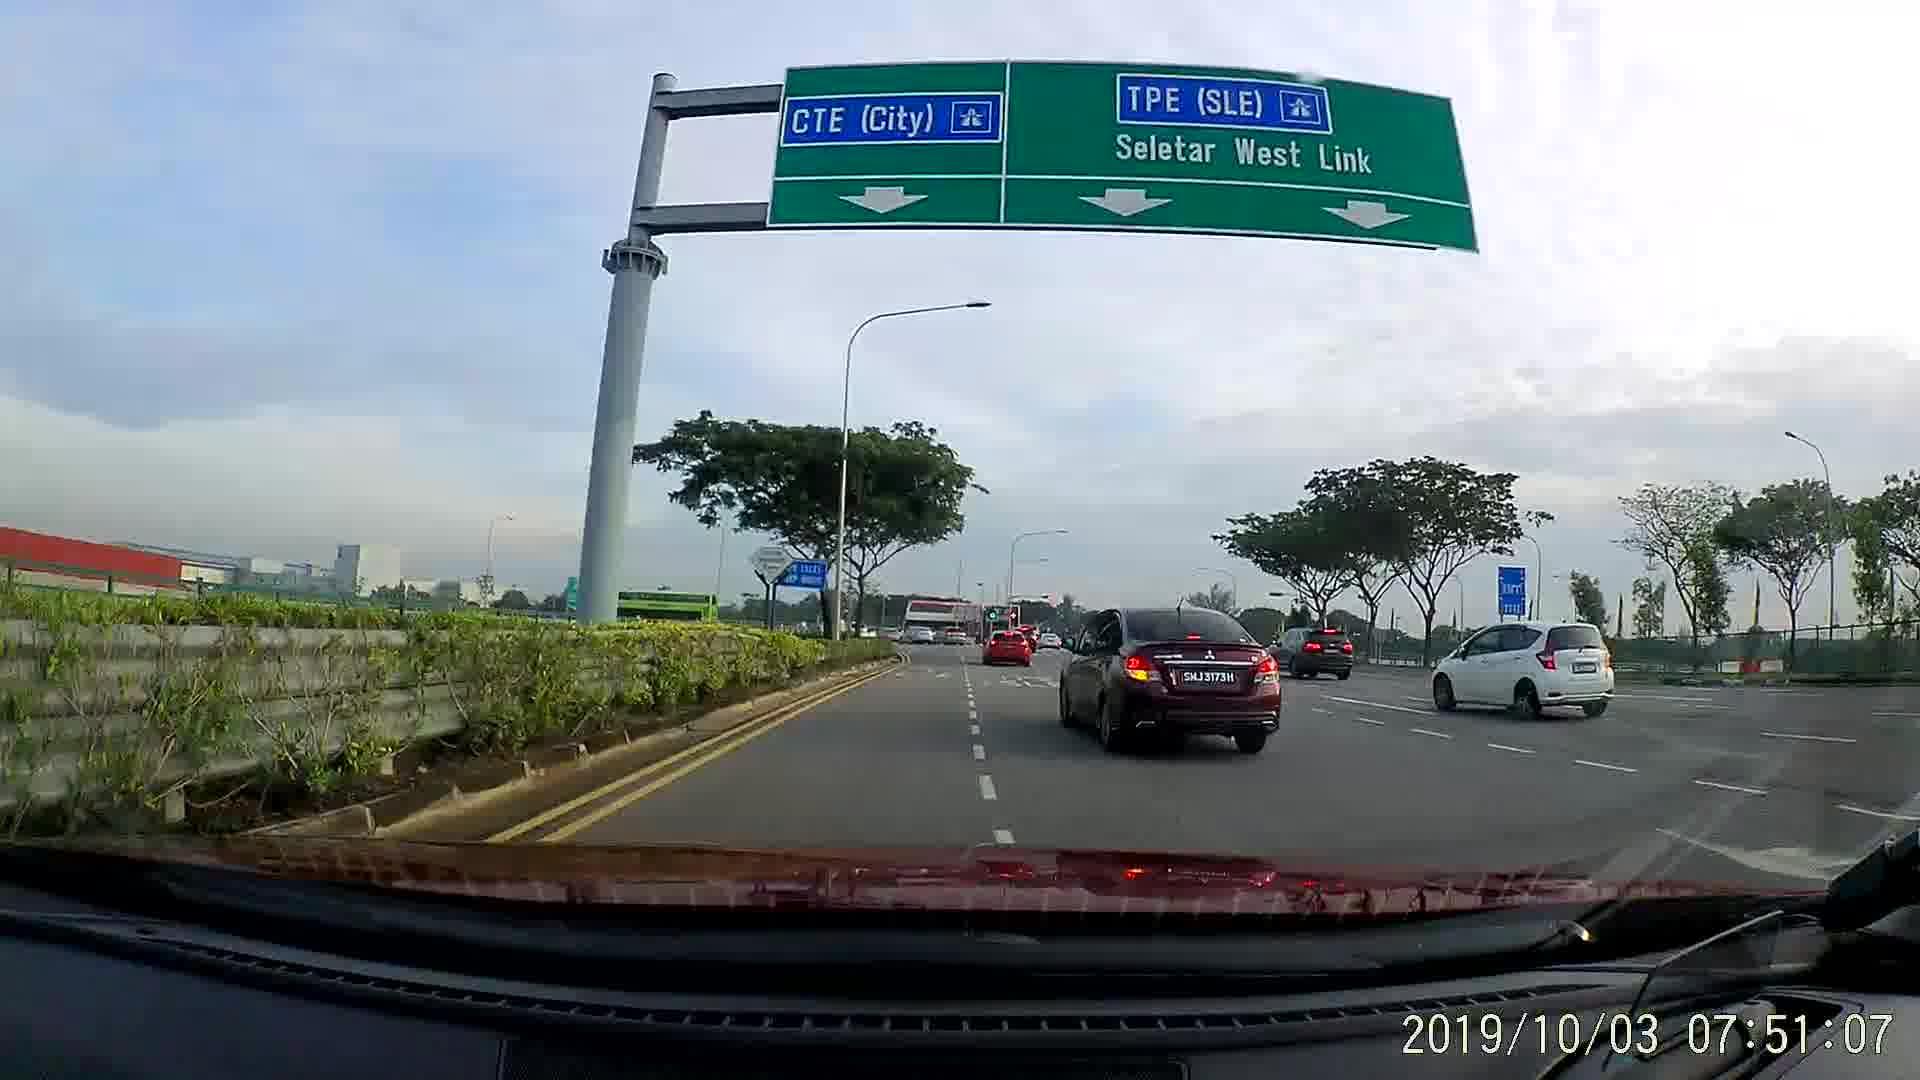bus: (1428, 615, 1615, 720), (1261, 626, 1360, 682), (899, 597, 1021, 642)
car: (1060, 607, 1282, 761), (1423, 607, 1611, 724), (1265, 624, 1357, 684), (978, 629, 1035, 671), (901, 622, 938, 646), (944, 626, 968, 646), (1038, 630, 1062, 650)
